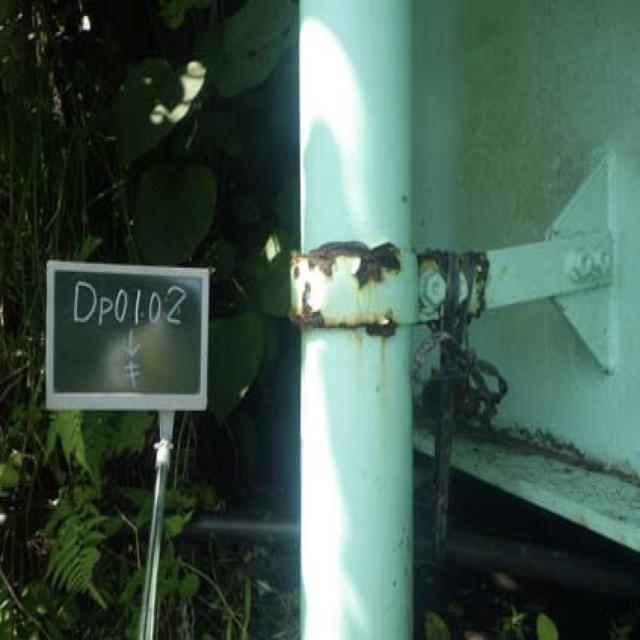corrosion: (273, 220, 414, 363)
